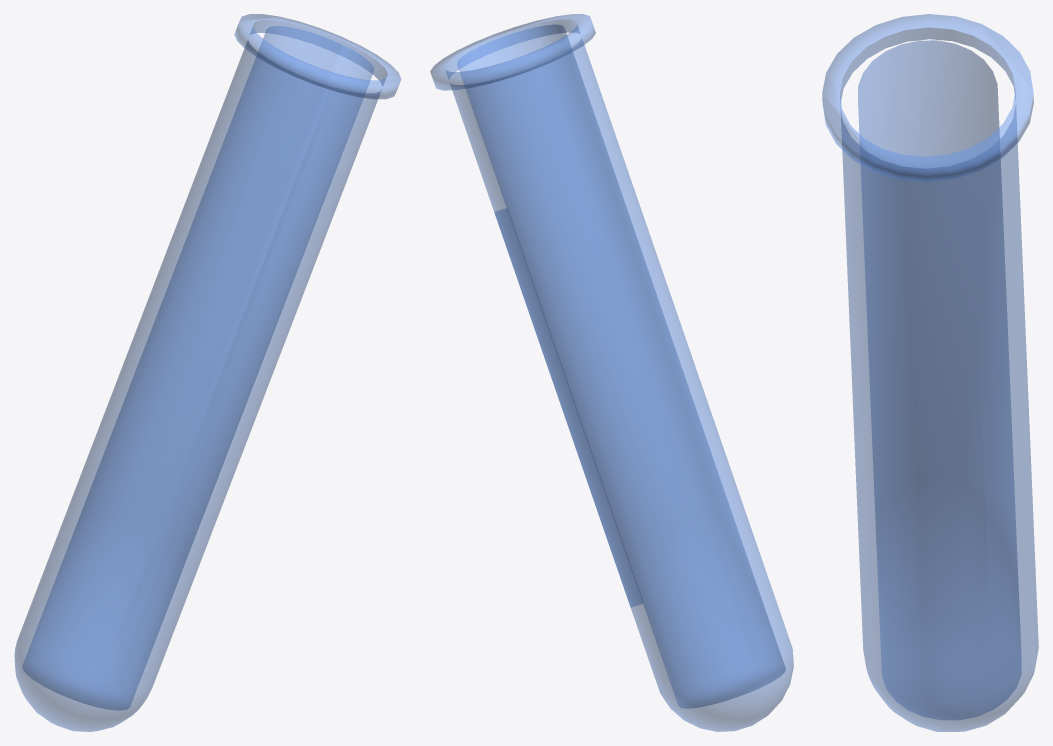
3 views of the same model, side by side, from view 1: azimuth 30°, elevation 25°; view 2: azimuth 150°, elevation 25°; view 3: azimuth 270°, elevation 25° (orthographic). The views are drawn at different scales.
Parts seen in each view (by area): view 1: Component#1; view 2: Component#1; view 3: Component#1.
Boxes of the visible parts, bbox=[...] form: Component#1: bbox=[14, 14, 401, 731]; Component#1: bbox=[430, 14, 793, 731]; Component#1: bbox=[822, 14, 1038, 731].
Size of the model in its own units: 3.62 by 6.39 by 1.56.
